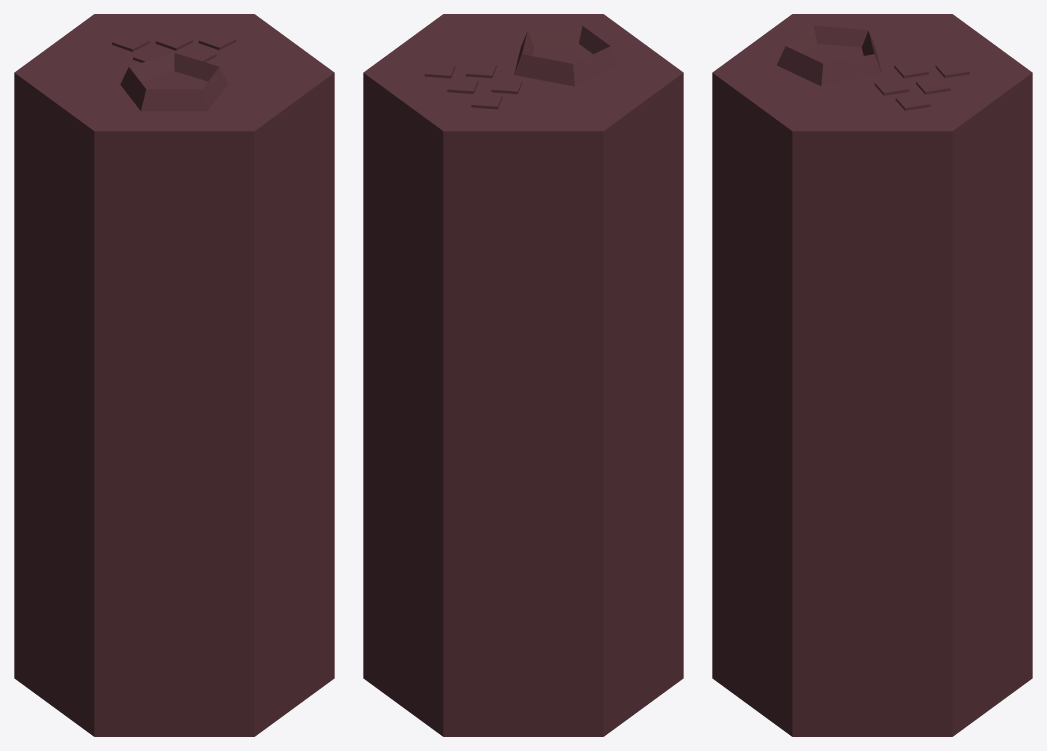
Rendered from salt-drum.fbx.
3 views of the same model, side by side, from view 1: azimuth 30°, elevation 25°; view 2: azimuth 150°, elevation 25°; view 3: azimuth 270°, elevation 25° (orthographic).
Parts seen in each view (by area): view 1: salt-drum; view 2: salt-drum; view 3: salt-drum.
Boxes of the visible parts, box(x1,y1,x2,y2) form: salt-drum: box(14, 14, 334, 736); salt-drum: box(363, 14, 683, 736); salt-drum: box(712, 14, 1032, 736).
Bounding box in the file's own units: 0.0797 × 0.198 × 0.092.
